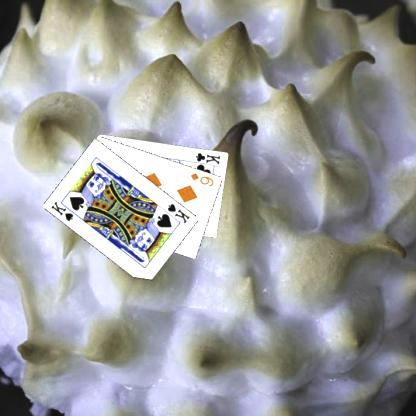6D: (188, 170, 215, 188)
KC: (190, 150, 221, 167)
KS: (48, 199, 80, 222), (165, 201, 191, 224)
